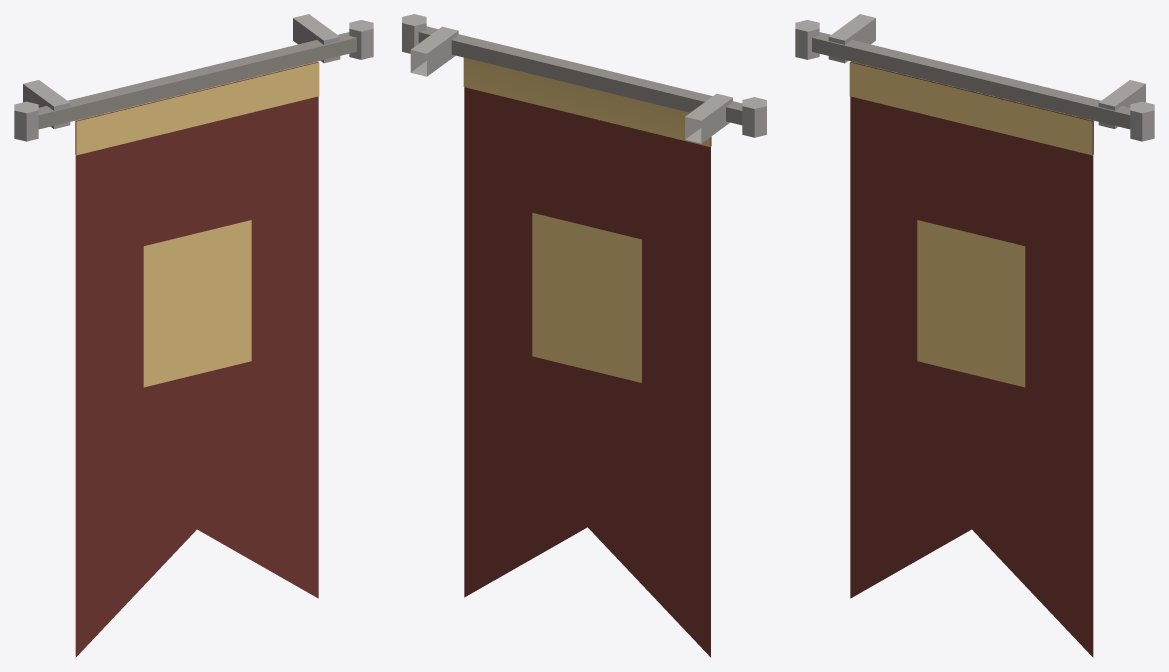
The model's file is kit_banner.glb.
3 renders of one model, left to right at view 1: azimuth 30°, elevation 25°; view 2: azimuth 150°, elevation 25°; view 3: azimuth 330°, elevation 25°, orthographic.
Visible parts, largest first — view 1: kit_banner; view 2: kit_banner; view 3: kit_banner.
Part boxes in pixels (x1,y1,x2,y2): kit_banner: [14, 14, 373, 657]; kit_banner: [402, 14, 766, 657]; kit_banner: [795, 14, 1154, 657].
Bounding box in the file's own units: 1.33 × 1.98 × 0.219.
